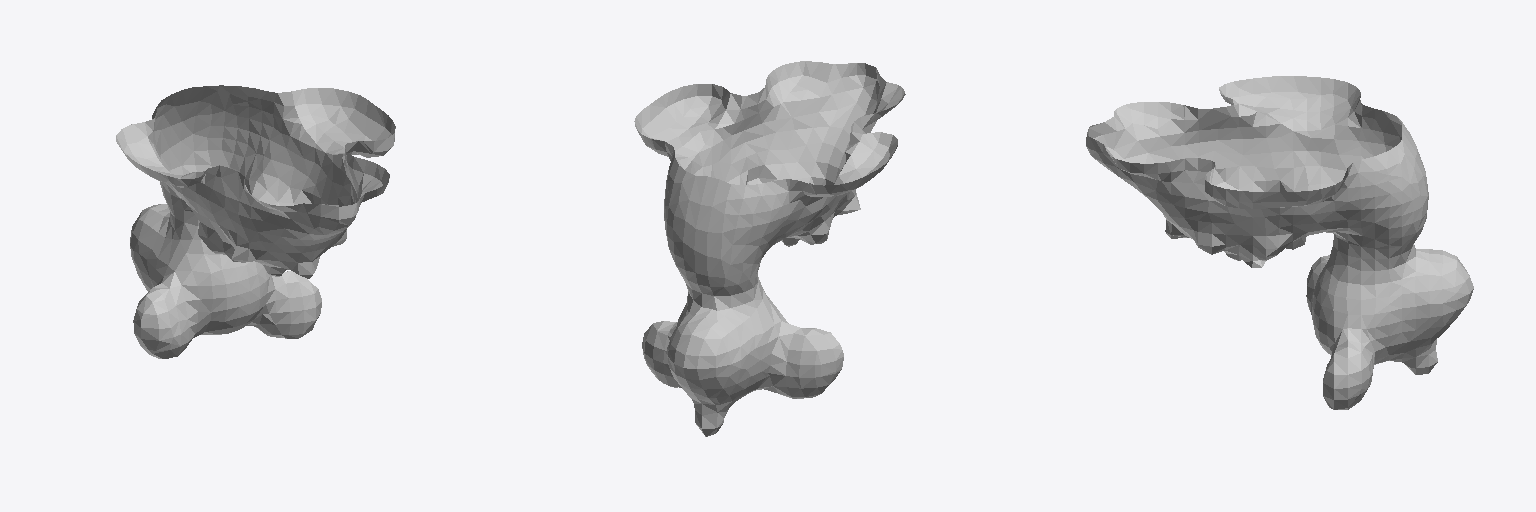
The model's file is Optcuts-decimated_to_1000_vertices.obj.
The picture shows the model from 3 angles: view 1: azimuth 30°, elevation 25°; view 2: azimuth 150°, elevation 25°; view 3: azimuth 270°, elevation 25°; orthographic projection.
Bounding box in the file's own units: 0.2976 × 0.2977 × 0.4206.